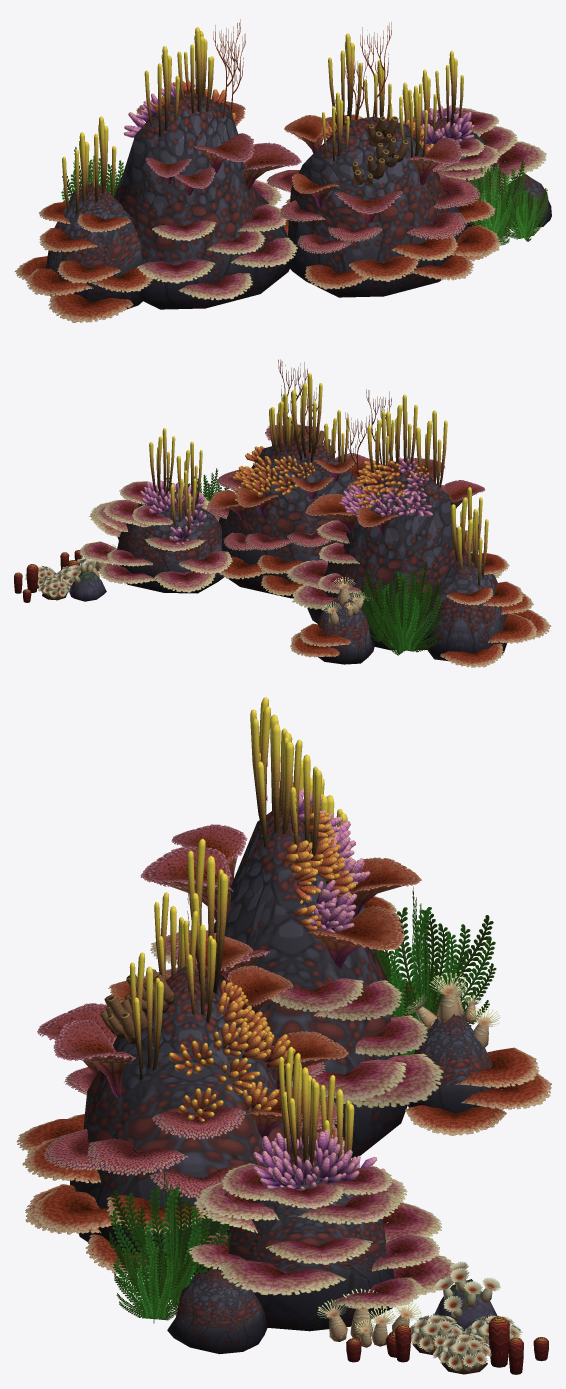
The model's file is CoralSet_06.FBX.
The picture shows the model from 3 angles, top to bottom: view 1: azimuth 30°, elevation 25°; view 2: azimuth 150°, elevation 25°; view 3: azimuth 270°, elevation 25°; orthographic projection. The views are drawn at different scales.
Visible parts, largest first — view 1: Set_06_Part28, Set_06, Set_06_Part23, Set_06_Part86, Set_06_Part84, Set_06_Part33, Set_06_Part31, Set_06_Part13, Set_06_Part07, Set_06_Part09, Set_06_Part83, Set_06_Part06 (+33 smaller); view 2: Set_06_Part28, Set_06, Set_06_Part31, Set_06_Part84, Set_06_Part094, Set_06_Part78, Set_06_Part23, Set_06_Part13, Set_06_Part27, Set_06_Part02, Set_06_Part09, Set_06_Part33 (+30 smaller); view 3: Set_06, Set_06_Part28, Set_06_Part78, Set_06_Part31, Set_06_Part23, Set_06_Part33, Set_06_Part86, Set_06_Part094, Set_06_Part02, Set_06_Part07, Set_06_Part03, Set_06_Part27 (+31 smaller).
Boxes of the visible parts, left/top/right/bottom form: Set_06_Part28: left=114, top=93, right=289, bottom=309; Set_06: left=286, top=117, right=467, bottom=297; Set_06_Part23: left=137, top=180, right=297, bottom=300; Set_06_Part86: left=283, top=199, right=500, bottom=289; Set_06_Part84: left=45, top=182, right=142, bottom=309; Set_06_Part33: left=266, top=144, right=480, bottom=253; Set_06_Part31: left=436, top=107, right=546, bottom=200; Set_06_Part13: left=144, top=27, right=212, bottom=136; Set_06_Part07: left=466, top=157, right=526, bottom=245; Set_06_Part09: left=62, top=116, right=116, bottom=213; Set_06_Part83: left=48, top=293, right=133, bottom=322; Set_06_Part06: left=502, top=185, right=548, bottom=241; Set_06_Part28: left=307, top=461, right=465, bottom=650; Set_06: left=218, top=440, right=356, bottom=598; Set_06_Part31: left=79, top=492, right=232, bottom=592; Set_06_Part84: left=425, top=551, right=506, bottom=661; Set_06_Part094: left=363, top=562, right=441, bottom=655; Set_06_Part78: left=113, top=490, right=224, bottom=593; Set_06_Part23: left=286, top=520, right=502, bottom=610; Set_06_Part13: left=386, top=394, right=447, bottom=487; Set_06_Part27: left=318, top=598, right=375, bottom=664; Set_06_Part02: left=232, top=446, right=315, bottom=501; Set_06_Part09: left=450, top=487, right=488, bottom=585; Set_06_Part33: left=209, top=470, right=332, bottom=550; Set_06: left=70, top=966, right=290, bottom=1274; Set_06_Part28: left=214, top=804, right=407, bottom=1158; Set_06_Part78: left=167, top=1143, right=394, bottom=1354; Set_06_Part31: left=188, top=1177, right=454, bottom=1309; Set_06_Part23: left=143, top=930, right=443, bottom=1108; Set_06_Part33: left=43, top=1046, right=343, bottom=1199; Set_06_Part86: left=17, top=1114, right=351, bottom=1273; Set_06_Part094: left=373, top=886, right=496, bottom=1026; Set_06_Part02: left=168, top=980, right=295, bottom=1121; Set_06_Part07: left=109, top=1170, right=231, bottom=1309; Set_06_Part03: left=405, top=1047, right=551, bottom=1135; Set_06_Part27: left=408, top=1014, right=494, bottom=1113.
Size of the model in its own units: 263 by 124 by 151.
